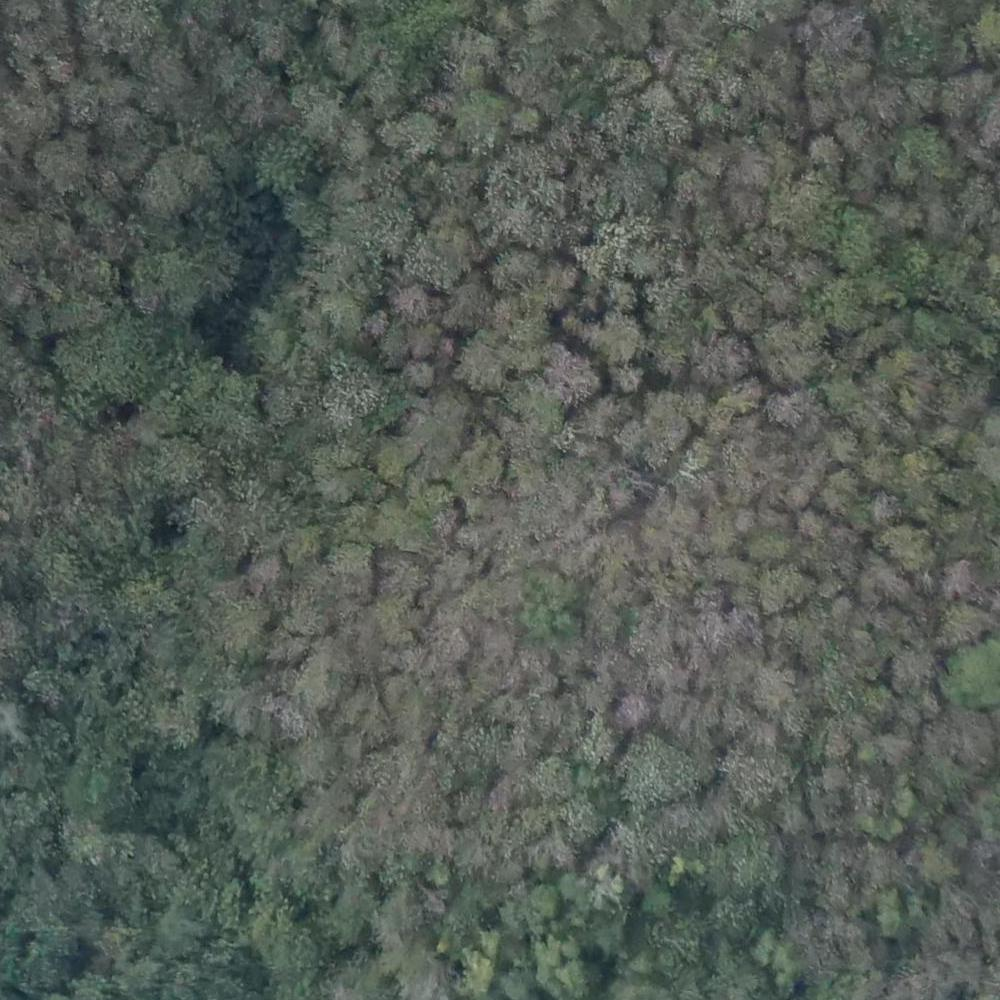tree: (715, 734, 811, 804), (136, 149, 207, 212), (630, 741, 692, 810), (29, 126, 92, 193), (943, 636, 1000, 710), (378, 107, 461, 156), (138, 246, 199, 312), (835, 202, 892, 270), (149, 435, 209, 499), (293, 651, 355, 710), (528, 582, 590, 640), (883, 515, 941, 573), (531, 754, 588, 813), (509, 378, 565, 434), (781, 174, 839, 228), (574, 717, 631, 769), (597, 312, 651, 366), (457, 431, 505, 491), (544, 352, 598, 405), (369, 429, 418, 486), (251, 129, 309, 177), (281, 185, 331, 236), (895, 641, 940, 690), (396, 106, 441, 155), (922, 836, 966, 886), (758, 560, 805, 602), (768, 390, 813, 433), (329, 543, 371, 588), (876, 881, 920, 923), (909, 131, 954, 172), (500, 293, 545, 334), (337, 117, 375, 162), (749, 666, 793, 703), (807, 132, 848, 168), (509, 102, 546, 139), (497, 246, 536, 281), (840, 112, 875, 148), (622, 690, 652, 721), (409, 357, 439, 387), (403, 291, 431, 322), (360, 303, 387, 333), (920, 72, 935, 95)
